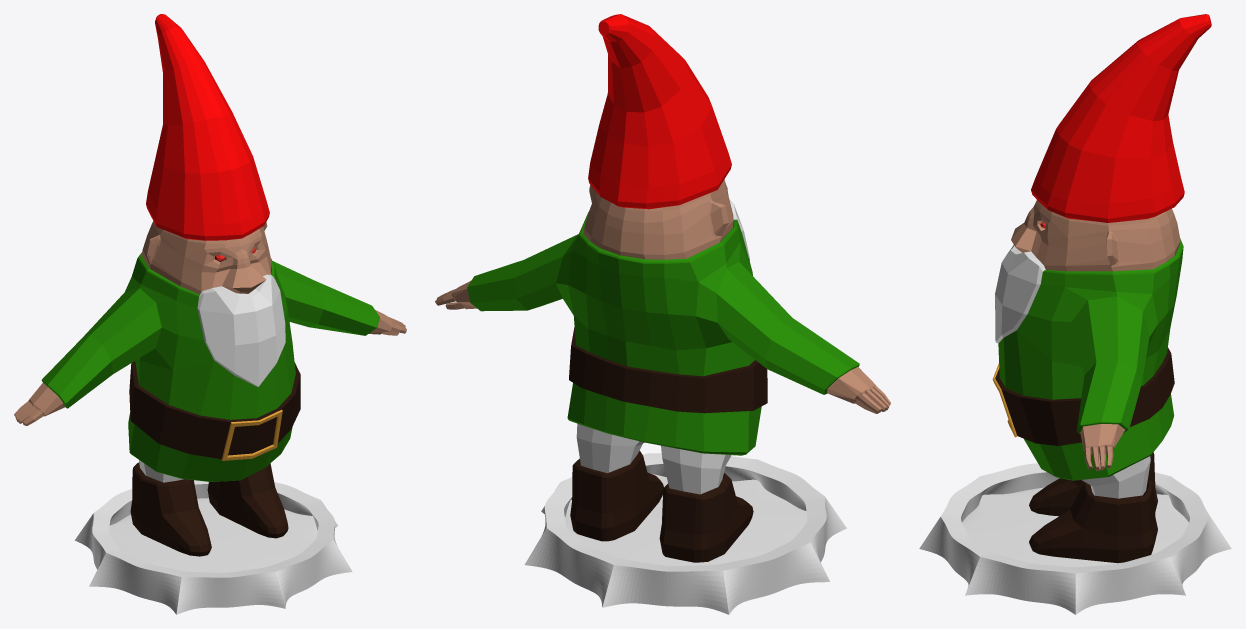
File: Gnome_0.12-WithBase.fbx
3 renders of one model, left to right at view 1: azimuth 30°, elevation 25°; view 2: azimuth 150°, elevation 25°; view 3: azimuth 270°, elevation 25°, orthographic. The views are drawn at different scales.
Visible parts, largest first — view 1: Gnome, MiniatureBase; view 2: Gnome, MiniatureBase; view 3: Gnome, MiniatureBase.
Part boxes in pixels (x1,y1,x2,y2): Gnome: (14,14,406,556); MiniatureBase: (75,480,352,614); Gnome: (435,14,890,562); MiniatureBase: (524,453,846,614); Gnome: (992,14,1211,563); MiniatureBase: (919,463,1231,614).
Size of the model in its own units: 92.93 by 114 by 59.84.
